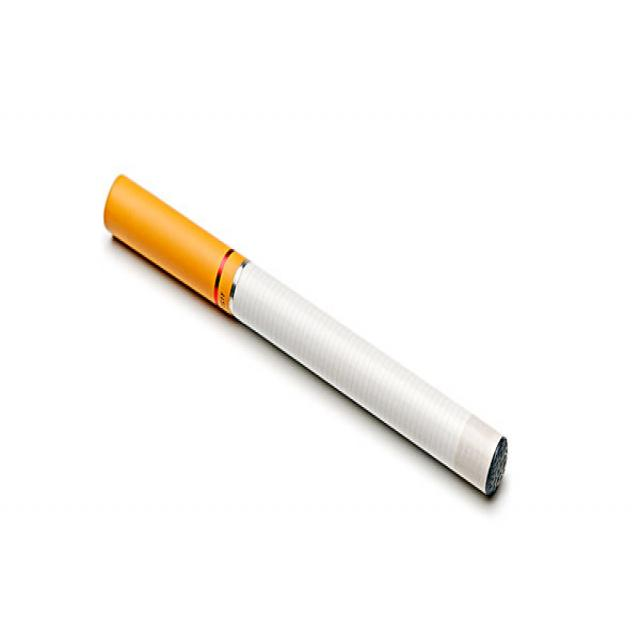smoking: (104, 172, 508, 498)
